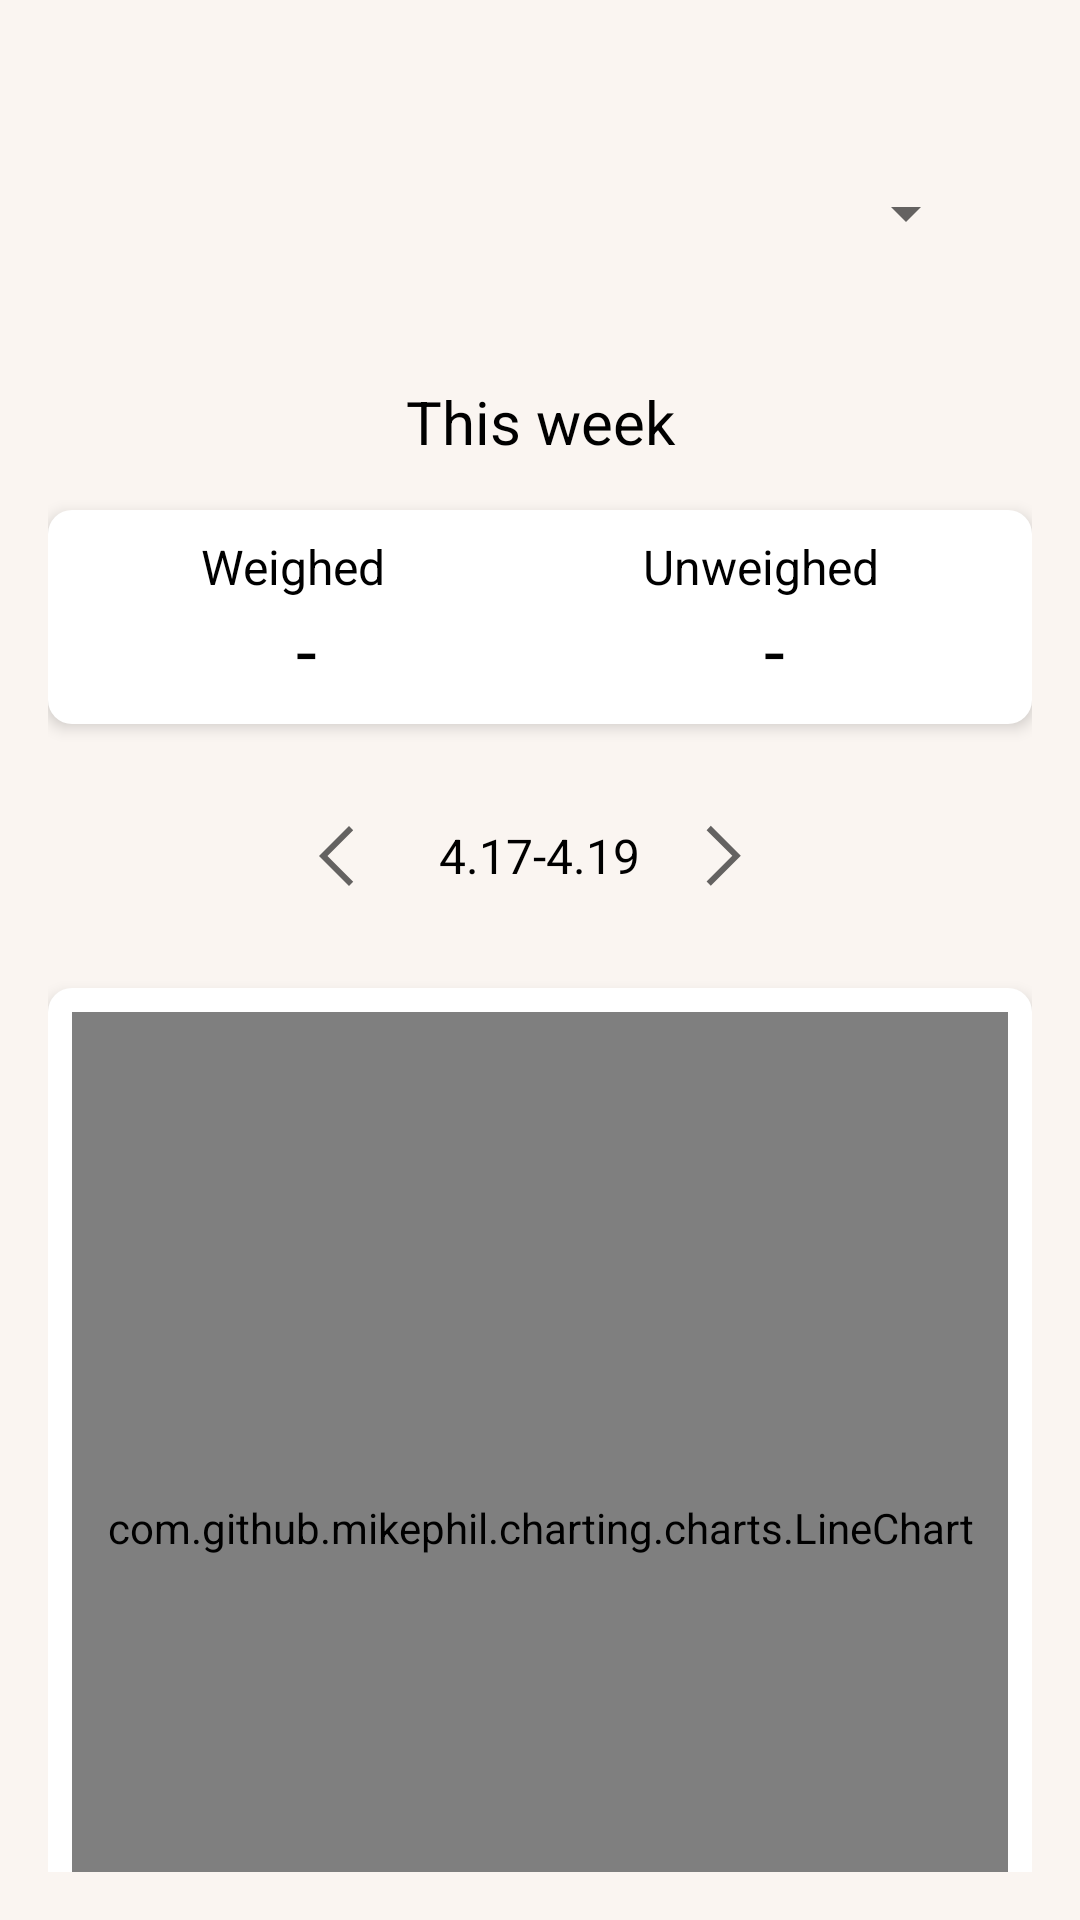

Icons on this 1080px x 1920px Android screen, each with its box as (x1, y1, x2, y2):
arrow back: (319, 826, 353, 886)
arrow forward: (707, 826, 741, 886)
